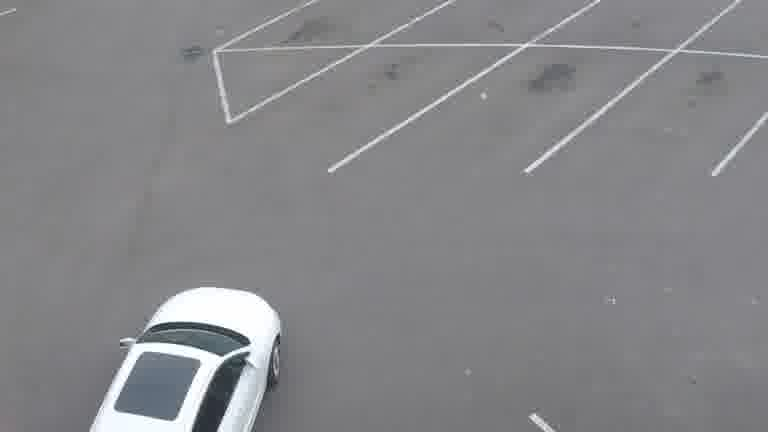person: (89, 287, 281, 432)
